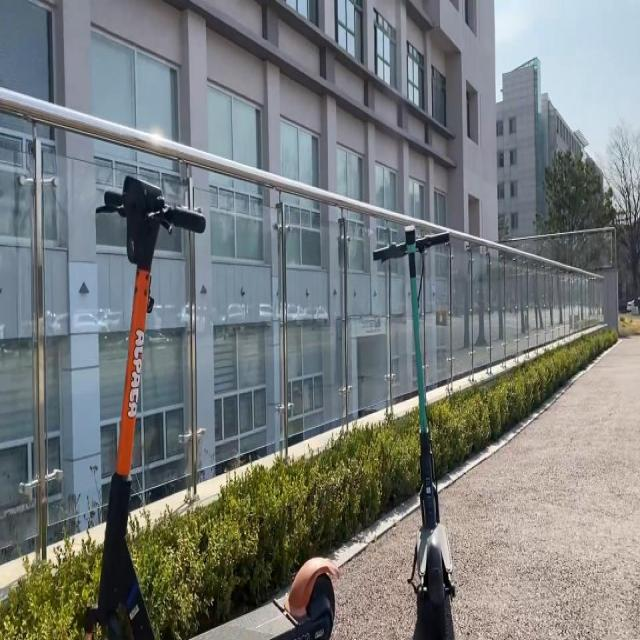sidewalk: (440, 336, 640, 639), (333, 510, 421, 639)
